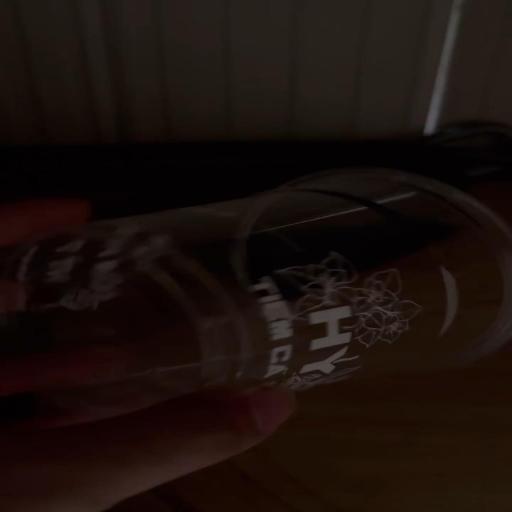ly_giay: (0, 168, 511, 414)
